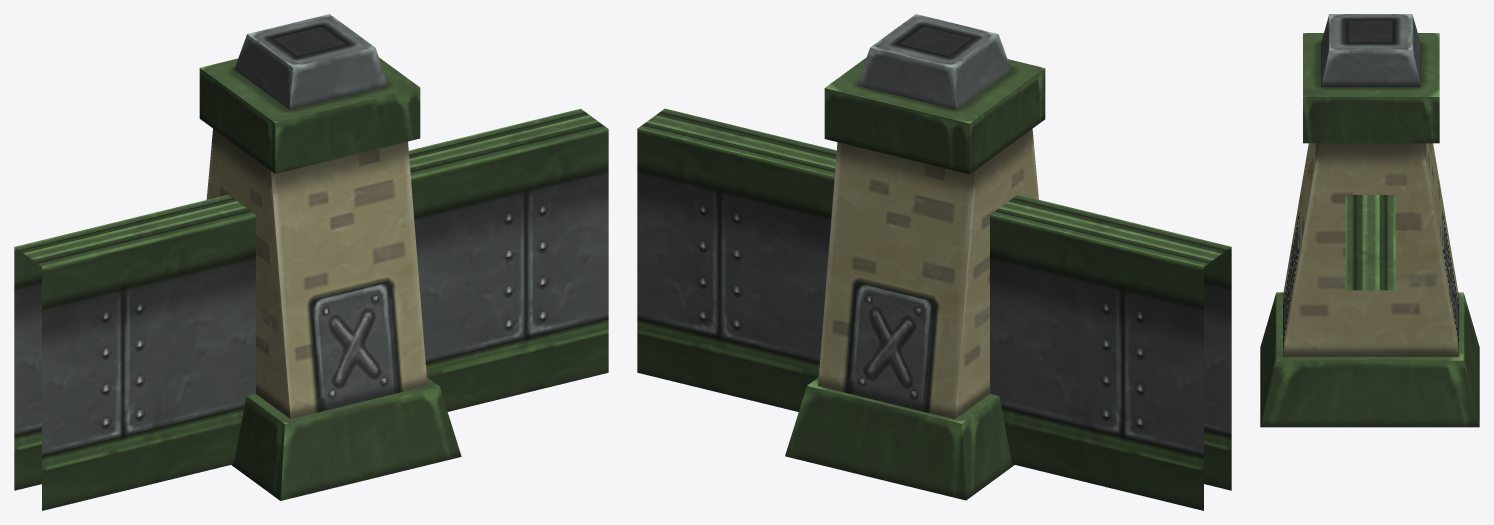
File: wall_05.FBX
The picture shows the model from 3 angles, left to right: view 1: azimuth 30°, elevation 25°; view 2: azimuth 150°, elevation 25°; view 3: azimuth 270°, elevation 25°; orthographic projection. The views are drawn at different scales.
Parts seen in each view (by area): view 1: wall_05; view 2: wall_05; view 3: wall_05.
Boxes of the visible parts, x1,y1,x2,y2 form: wall_05: [14, 14, 608, 510]; wall_05: [637, 14, 1231, 510]; wall_05: [1260, 14, 1479, 427].
Size of the model in its own units: 667 by 247 by 442.
